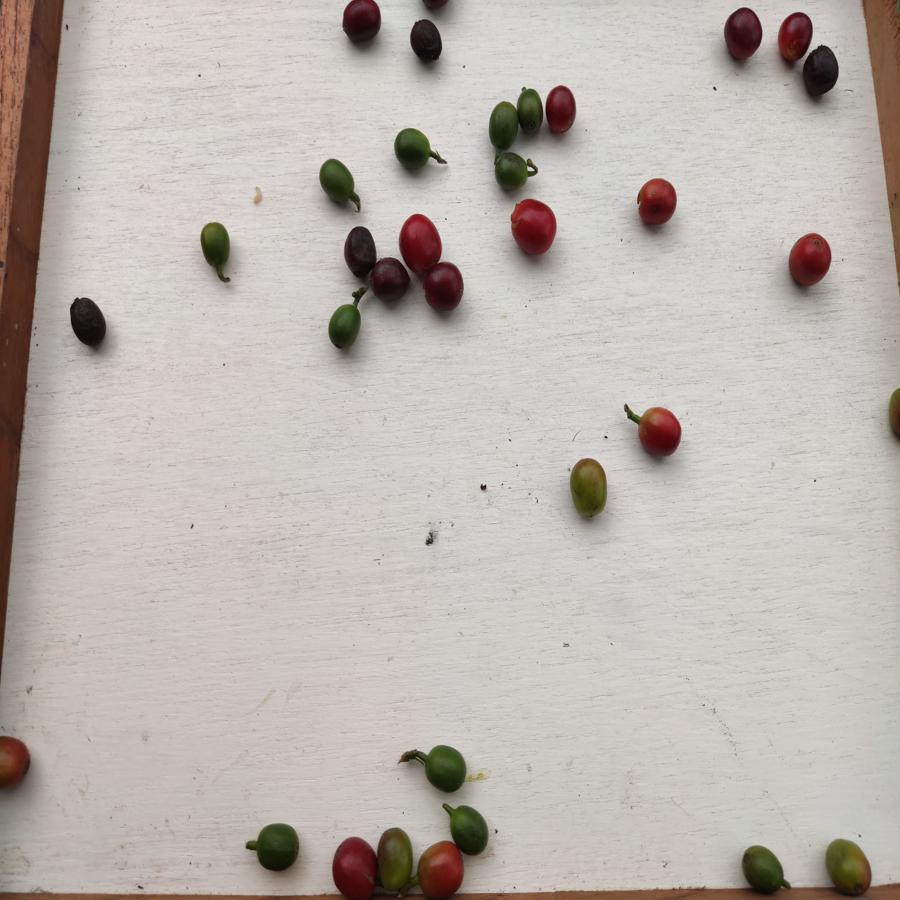Inmaduro: (252, 819, 301, 876), (741, 843, 789, 895), (317, 157, 360, 212), (568, 458, 608, 517), (423, 741, 468, 793), (448, 801, 489, 857), (325, 303, 363, 353), (198, 220, 233, 272), (393, 128, 431, 174), (485, 101, 520, 150), (491, 151, 533, 190), (517, 87, 543, 138)
Maduro: (506, 197, 559, 255), (331, 835, 379, 899), (785, 228, 834, 288), (634, 403, 683, 462), (399, 215, 443, 267), (637, 178, 679, 227), (773, 11, 811, 60)
Pinton: (823, 837, 873, 898), (412, 842, 464, 898), (372, 827, 412, 892), (1, 733, 32, 795)
Sobremaduro: (722, 6, 764, 63), (68, 293, 107, 350), (804, 42, 840, 100), (423, 263, 465, 309), (343, 225, 378, 280), (407, 18, 448, 63), (545, 85, 578, 137), (343, 1, 383, 43), (372, 255, 408, 301)
